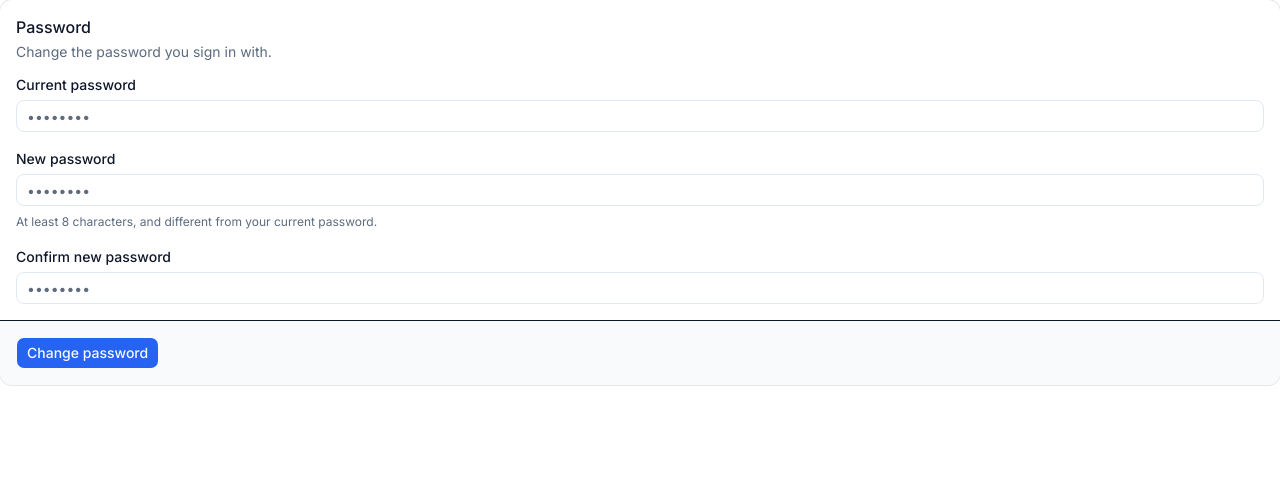
Scenario: ChangePasswordForm – success › says other devices were signed out only when they actually were
This screenshot has width=1280, height=487.
Type "old-correct-horse" into the password field labelled "Current password".
click(640, 116); type("old-correct-horse")  # box x1=16 y1=100 x2=1264 y2=132
Type "new-battery-staple" into the password field labelled "New password".
click(640, 190); type("new-battery-staple")  # box x1=16 y1=174 x2=1264 y2=206
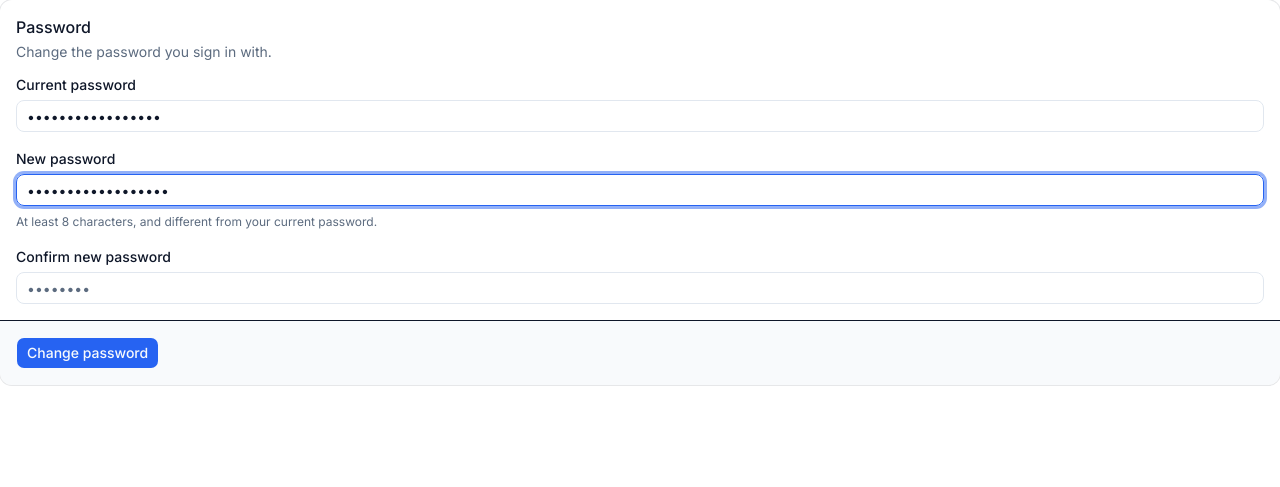
Type "new-battery-staple" into the password field labelled "Confirm new password".
click(640, 288); type("new-battery-staple")  # box x1=16 y1=272 x2=1264 y2=304
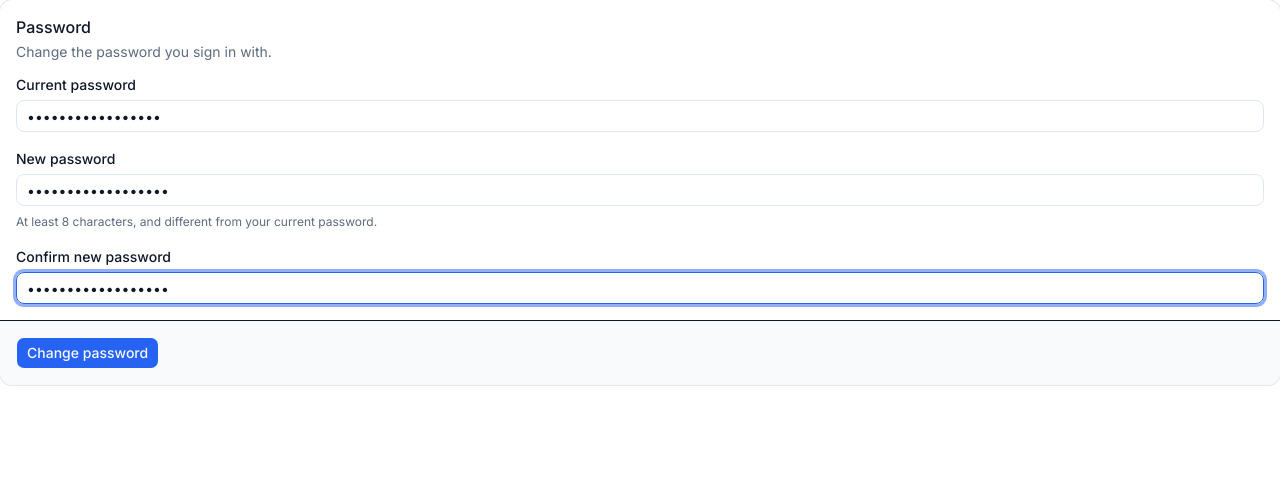
Click the button "Change password".
click(88, 353)  # box x1=16 y1=337 x2=159 y2=369
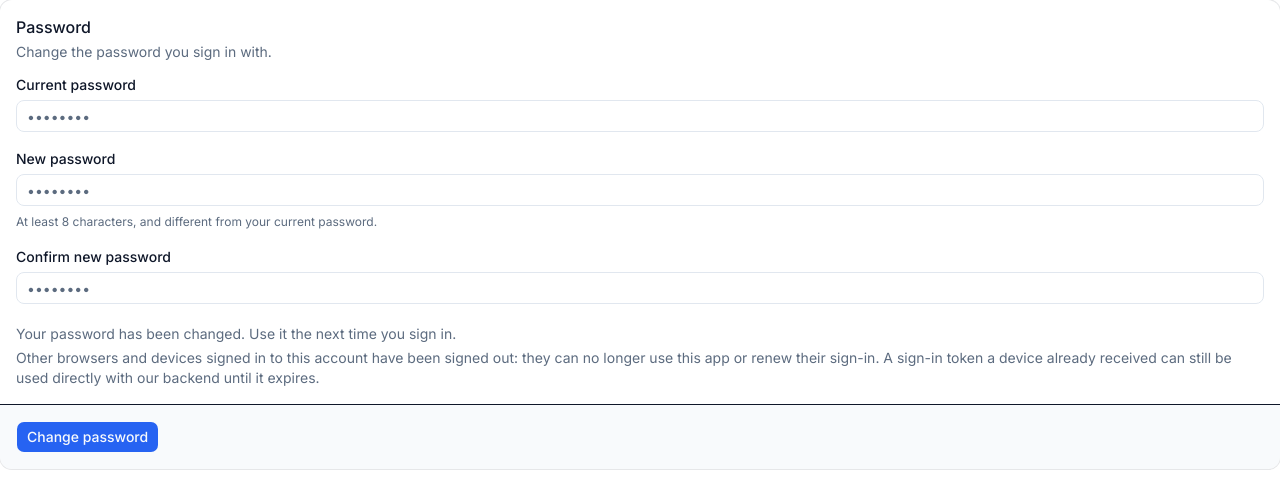
Check: the message shows "Other browsers and devices signed in to this account have been signed out: they can no longer use this app or renew their sign-in.", box x1=16 y1=349 x2=879 y2=366
Type "old-correct-horse" into the password field labelled "Current password".
click(640, 116); type("old-correct-horse")  # box x1=16 y1=100 x2=1264 y2=132
Type "new-battery-staple" into the password field labelled "New password".
click(640, 190); type("new-battery-staple")  # box x1=16 y1=174 x2=1264 y2=206
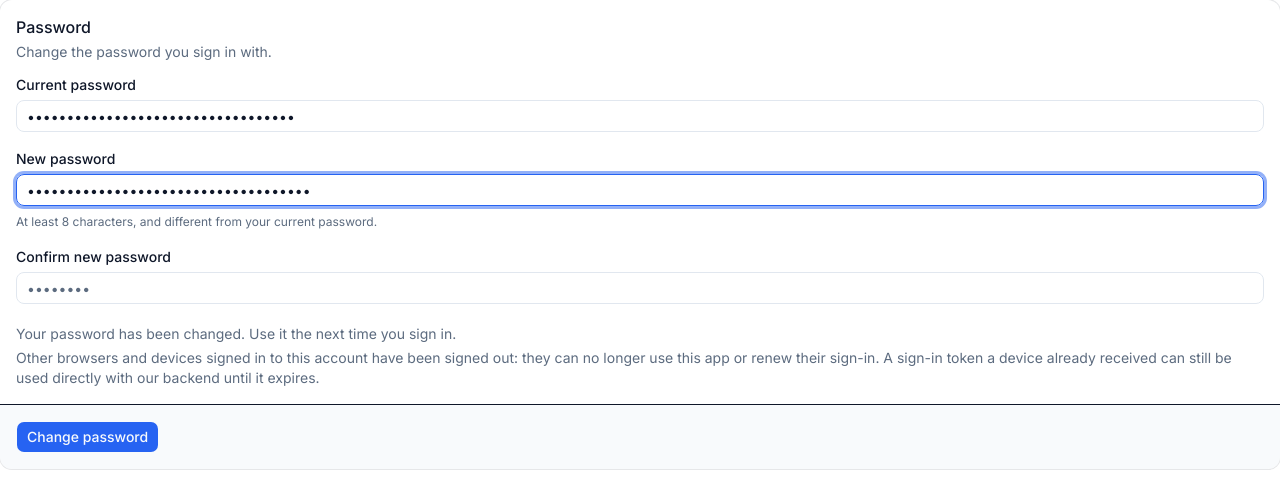
Type "new-battery-staple" into the password field labelled "Confirm new password".
click(640, 288); type("new-battery-staple")  # box x1=16 y1=272 x2=1264 y2=304
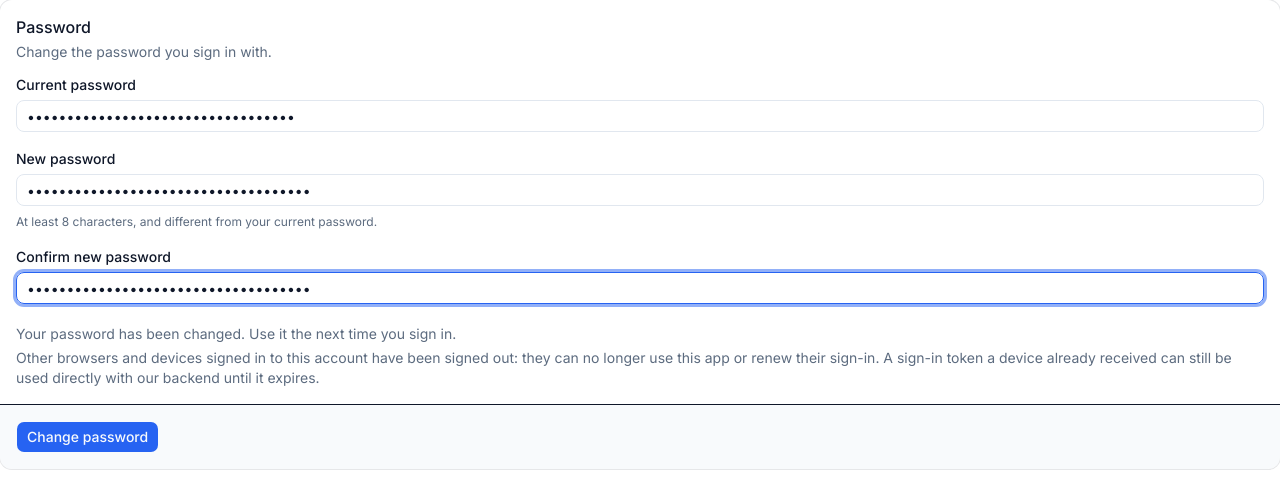
Click the button "Change password".
click(88, 437)  # box x1=16 y1=421 x2=159 y2=453
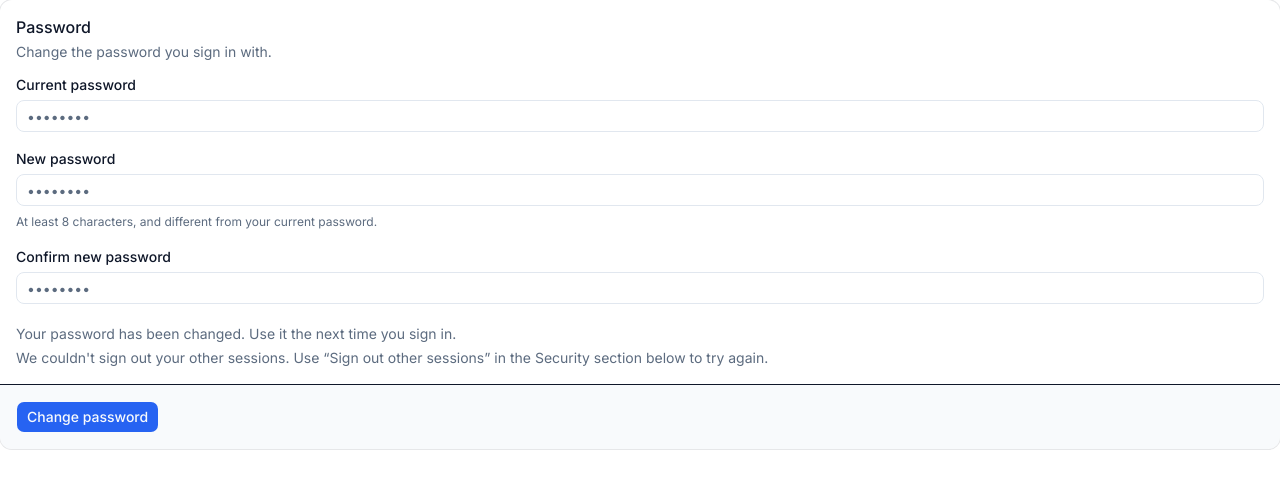
Check: the message shows "Your password has been changed. Use it the next time you sign in.", box x1=16 y1=325 x2=456 y2=342
Check: the message shows "We couldn't sign out your other sessions. Use “Sign out other sessions” in the Security section below to try again.", box x1=16 y1=349 x2=768 y2=366
Check: the message no longer shows "Other browsers and devices signed in to this account have been signed out: they can no longer use this app or renew their sign-in.", box x1=16 y1=325 x2=768 y2=366
